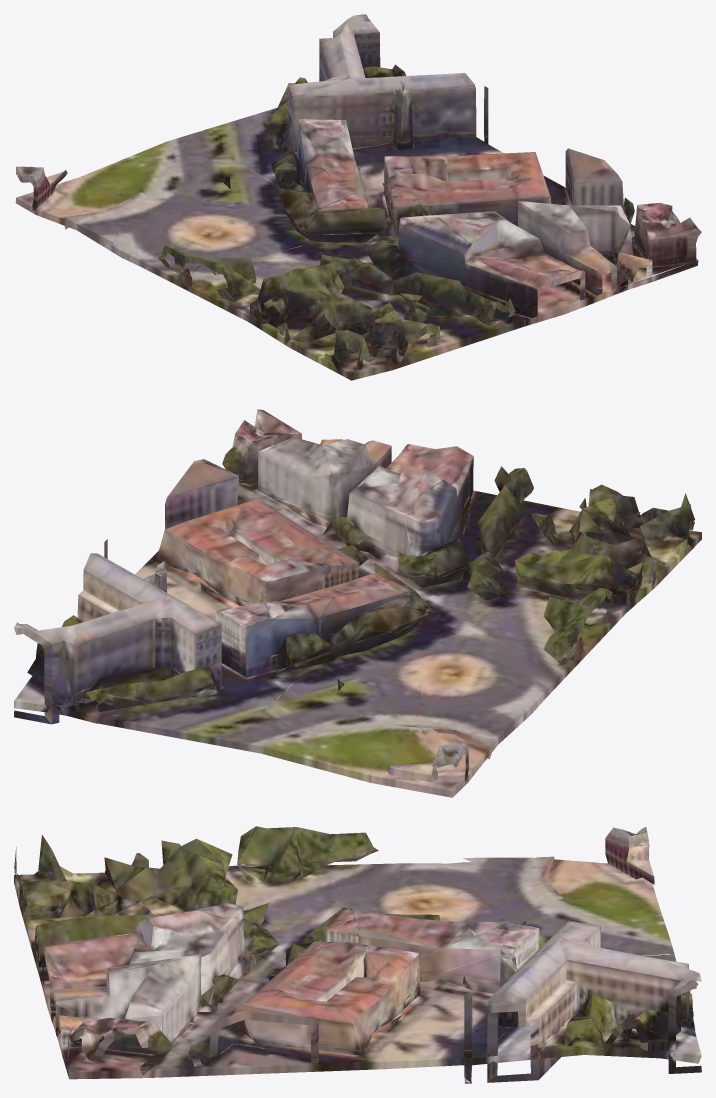
3 views of the same model, one above another, from view 1: azimuth 30°, elevation 25°; view 2: azimuth 150°, elevation 25°; view 3: azimuth 270°, elevation 25° (orthographic). The views are drawn at different scales.
Visible parts, largest first — view 1: Mesh_0; view 2: Mesh_0; view 3: Mesh_0.
Boxes of the visible parts, box(x1,y1,x2,y2) form: Mesh_0: box(15, 14, 701, 380); Mesh_0: box(14, 409, 701, 797); Mesh_0: box(14, 826, 701, 1083).
Size of the model in its own units: 270 by 52.2 by 330.
Materials: 2 (2 with a texture image).
